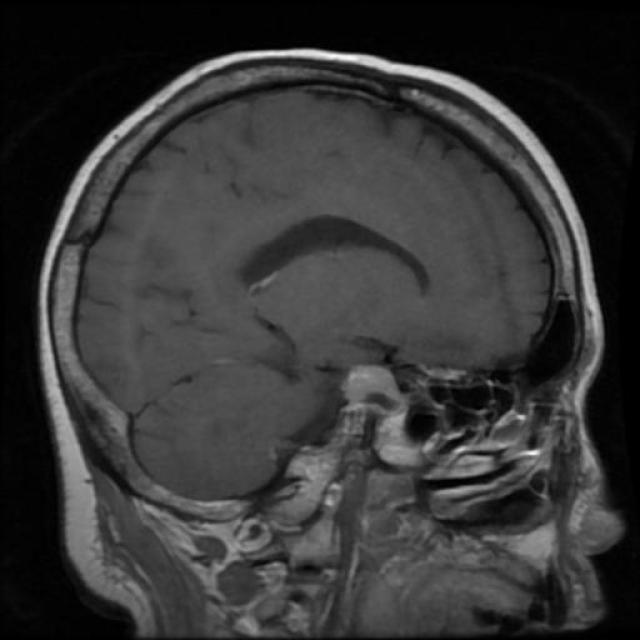pituitary: (326, 348, 410, 424)
